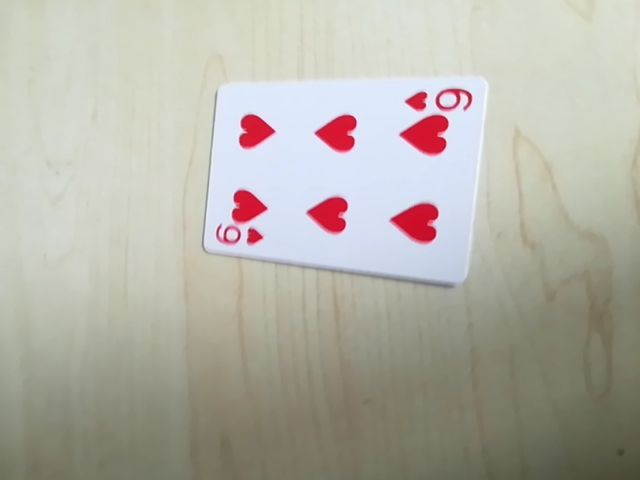hx 6: (401, 82, 473, 116), (212, 223, 269, 254)
